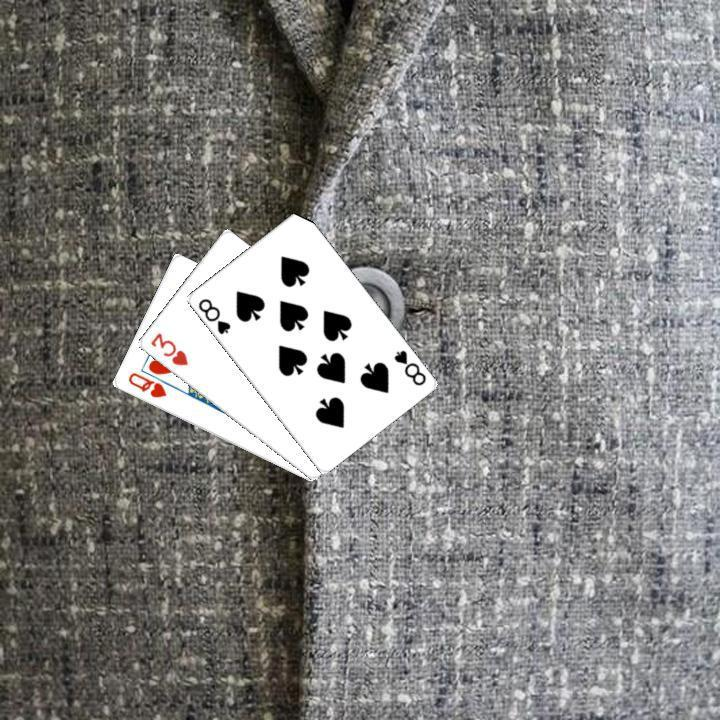3: (146, 328, 190, 368)
8: (193, 294, 232, 337), (389, 345, 428, 388)
Q: (123, 368, 168, 400)
